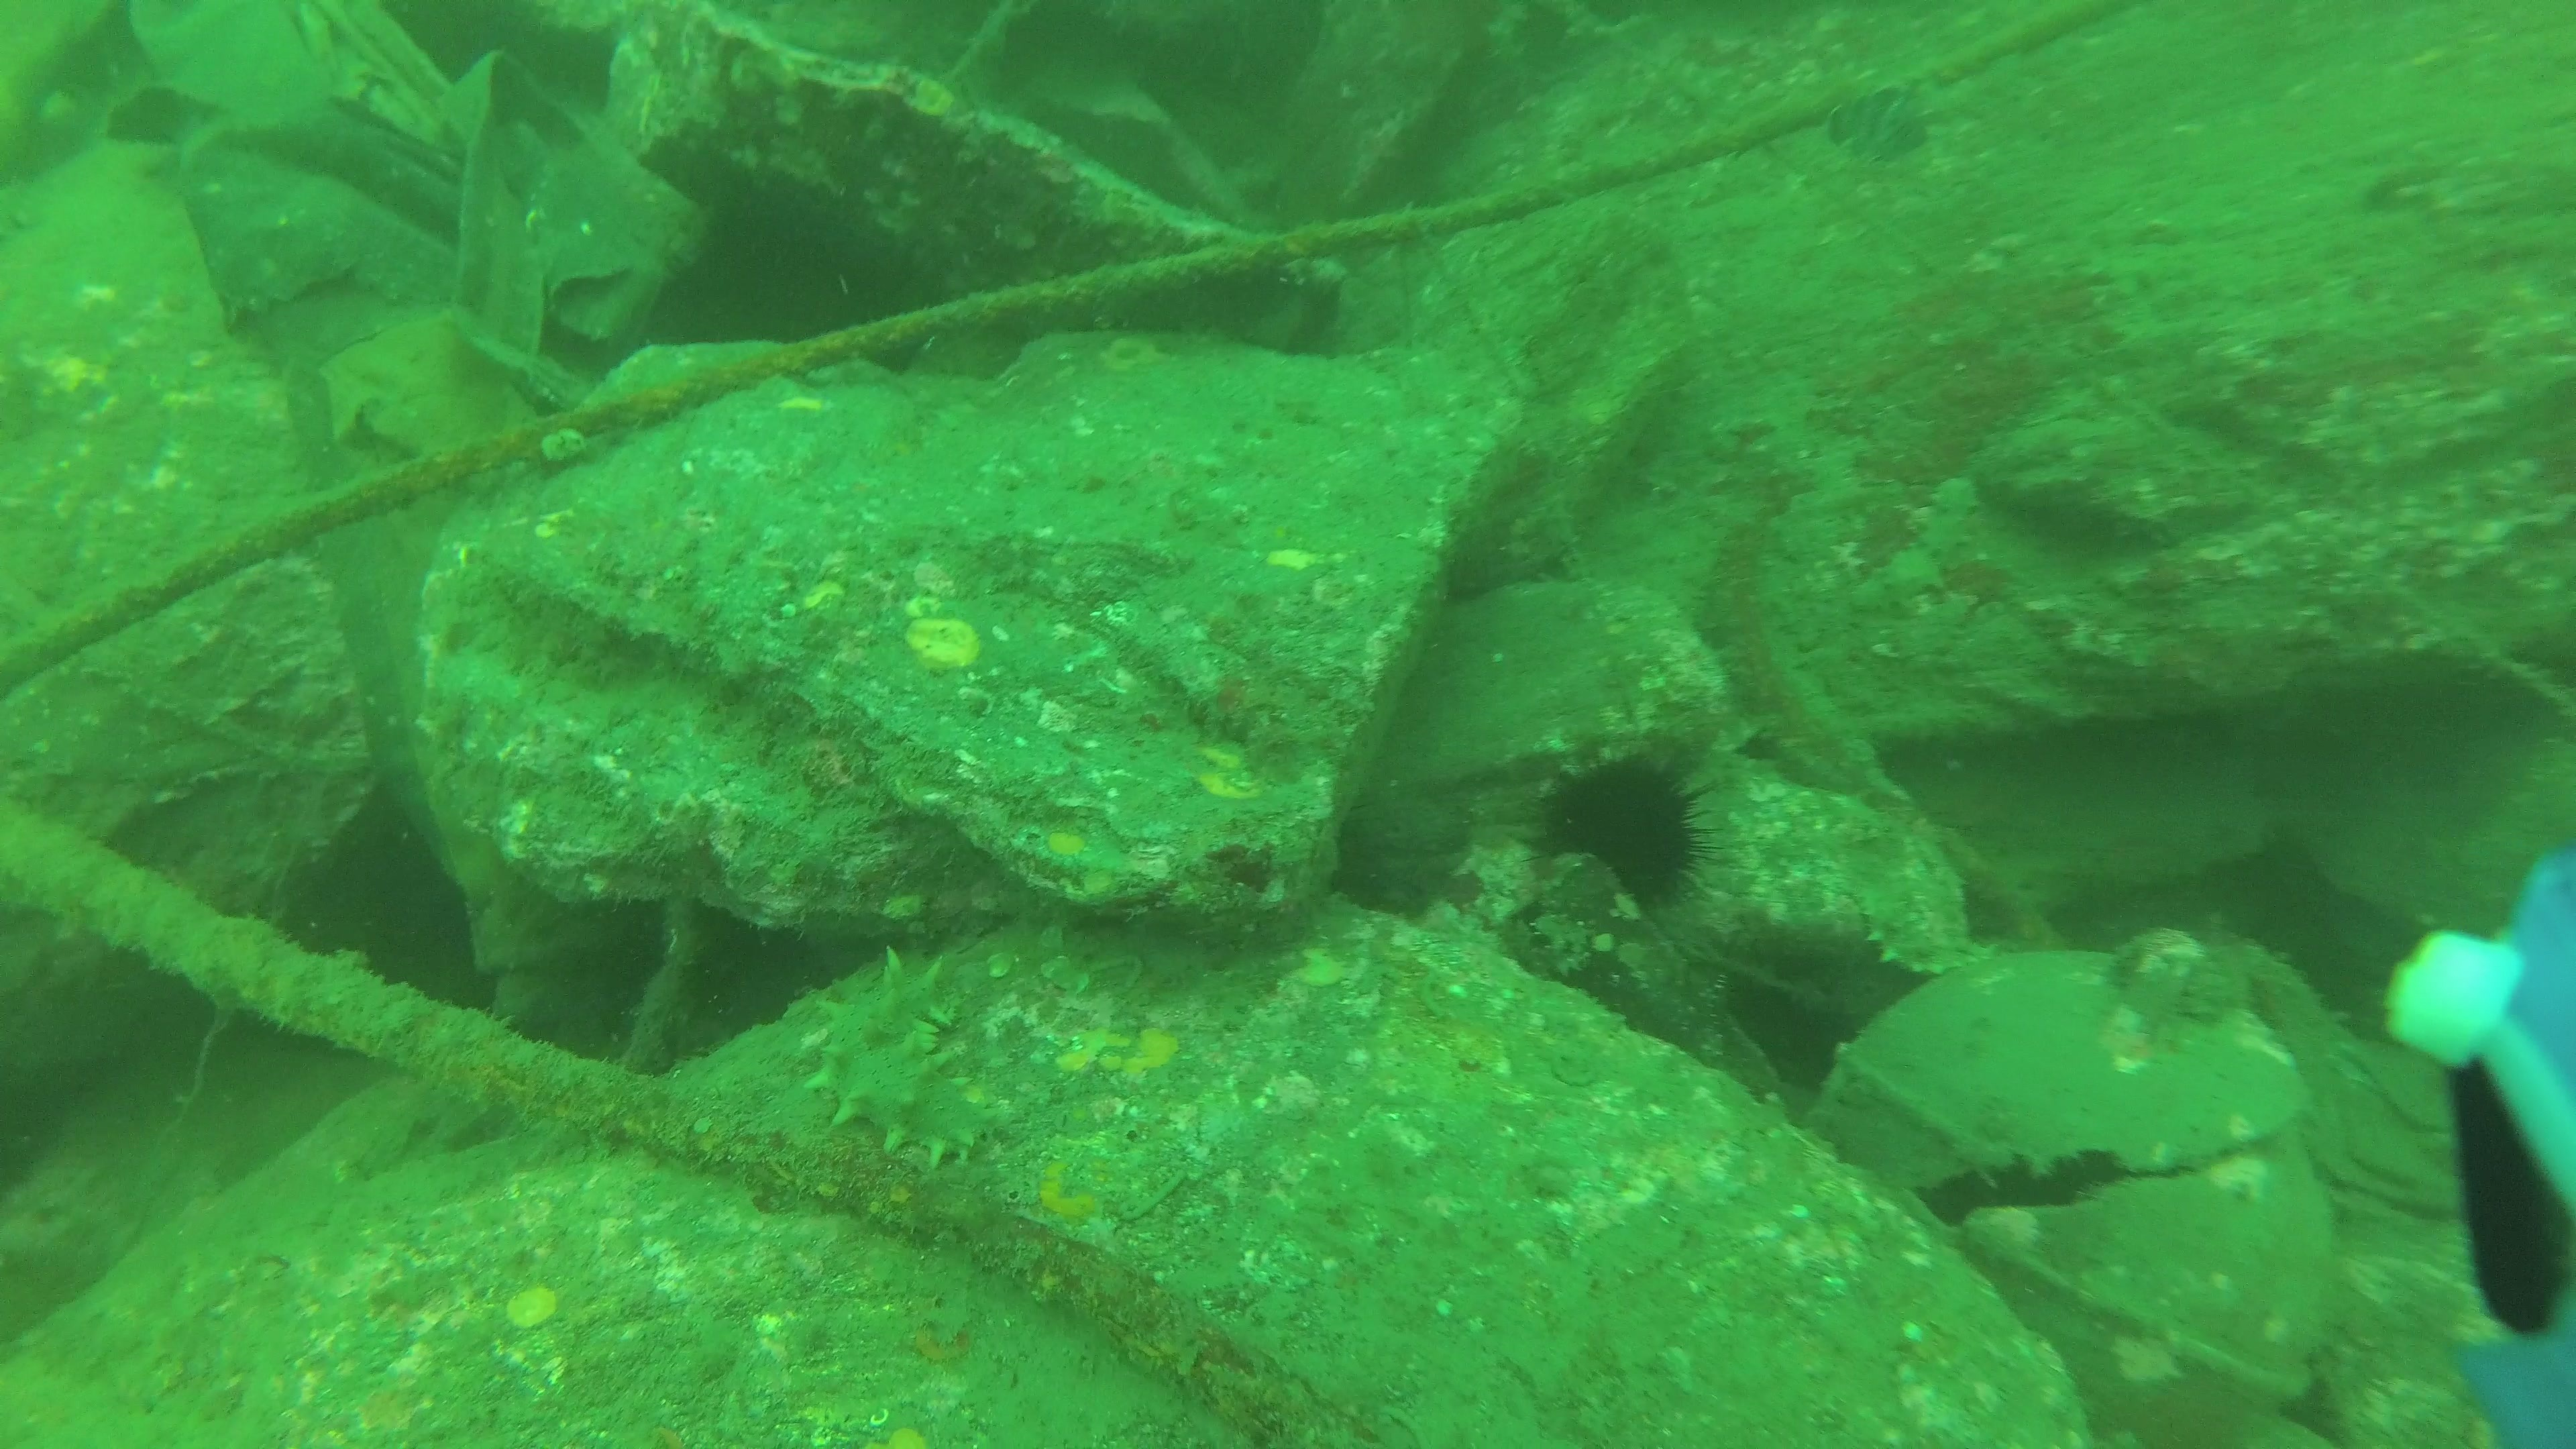echinus: (1522, 747, 1723, 918)
holothurian: (798, 948, 996, 1177), (1868, 464, 1985, 626)
